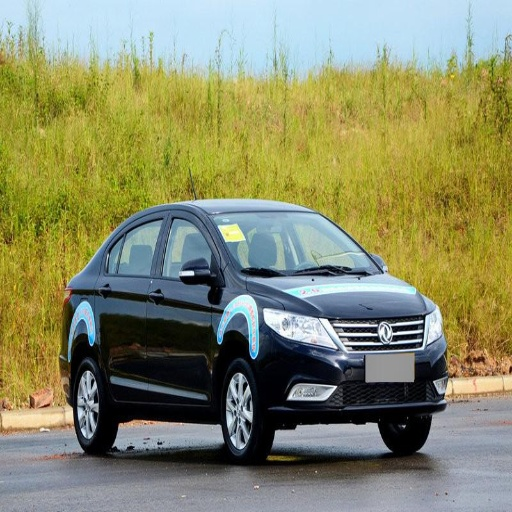front_bumper: (258, 314, 447, 424)
front_right_door: (148, 209, 221, 399)
front_right_light: (265, 306, 331, 345)
